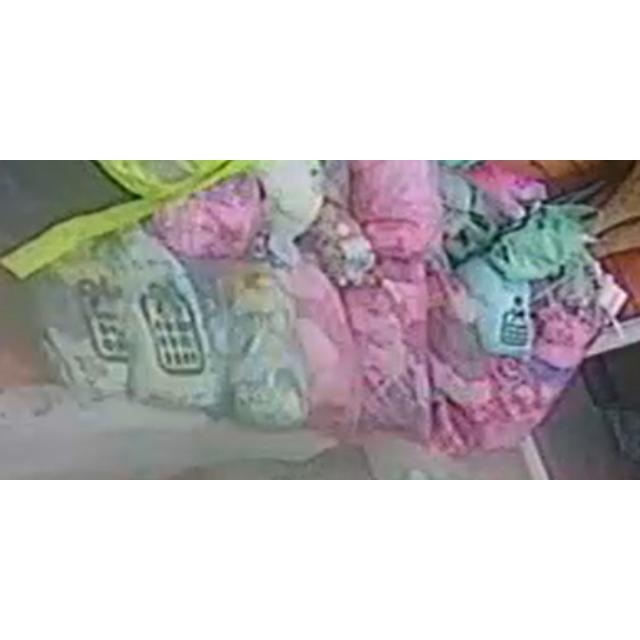general_trashbag: (124, 229, 219, 408)
other_trashbag: (341, 274, 430, 438), (284, 261, 355, 428), (350, 160, 441, 265), (151, 176, 265, 258)
